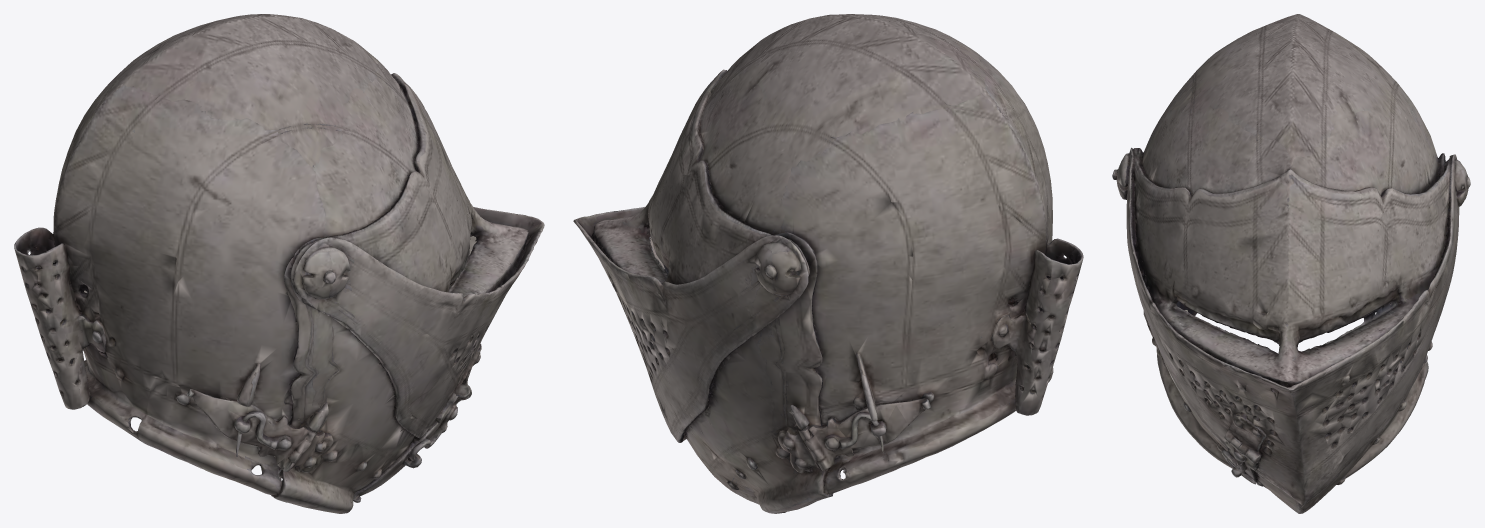
Rendered from naman_bust.glb.
The picture shows the model from 3 angles, left to right: view 1: azimuth 30°, elevation 25°; view 2: azimuth 150°, elevation 25°; view 3: azimuth 270°, elevation 25°; orthographic projection. The views are drawn at different scales.
Visible parts, largest first — view 1: Object_2; view 2: Object_2; view 3: Object_2.
Boxes of the visible parts, box(x1,y1,x2,y2) form: Object_2: box(14, 14, 544, 513); Object_2: box(573, 14, 1083, 513); Object_2: box(1112, 14, 1470, 513).
Bounding box in the file's own units: 1.09 × 1.02 × 0.7725.
Materials: 1 (1 with a texture image).
